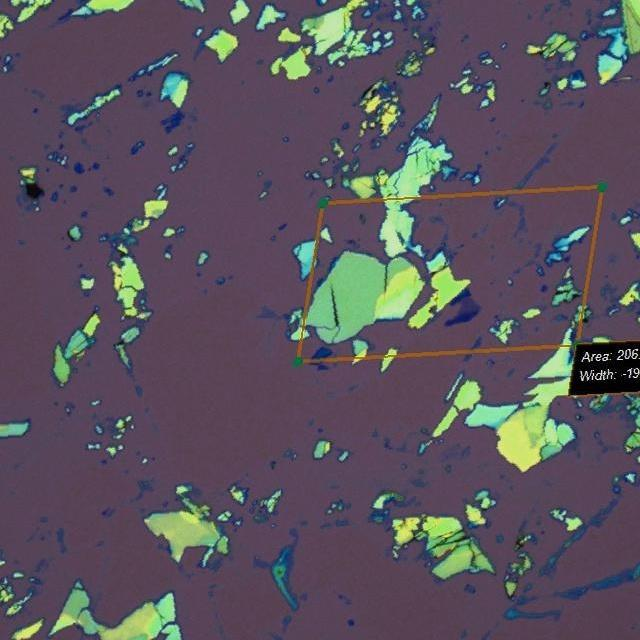monolayer-eWW4: (455, 296, 481, 314)
